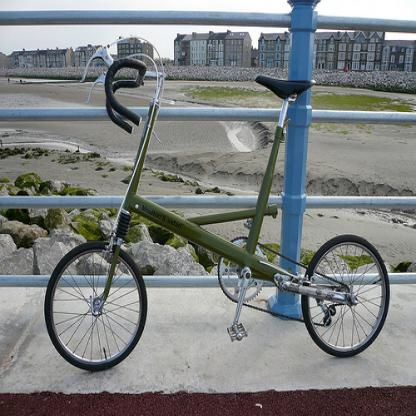bicycle: (44, 42, 391, 372)
